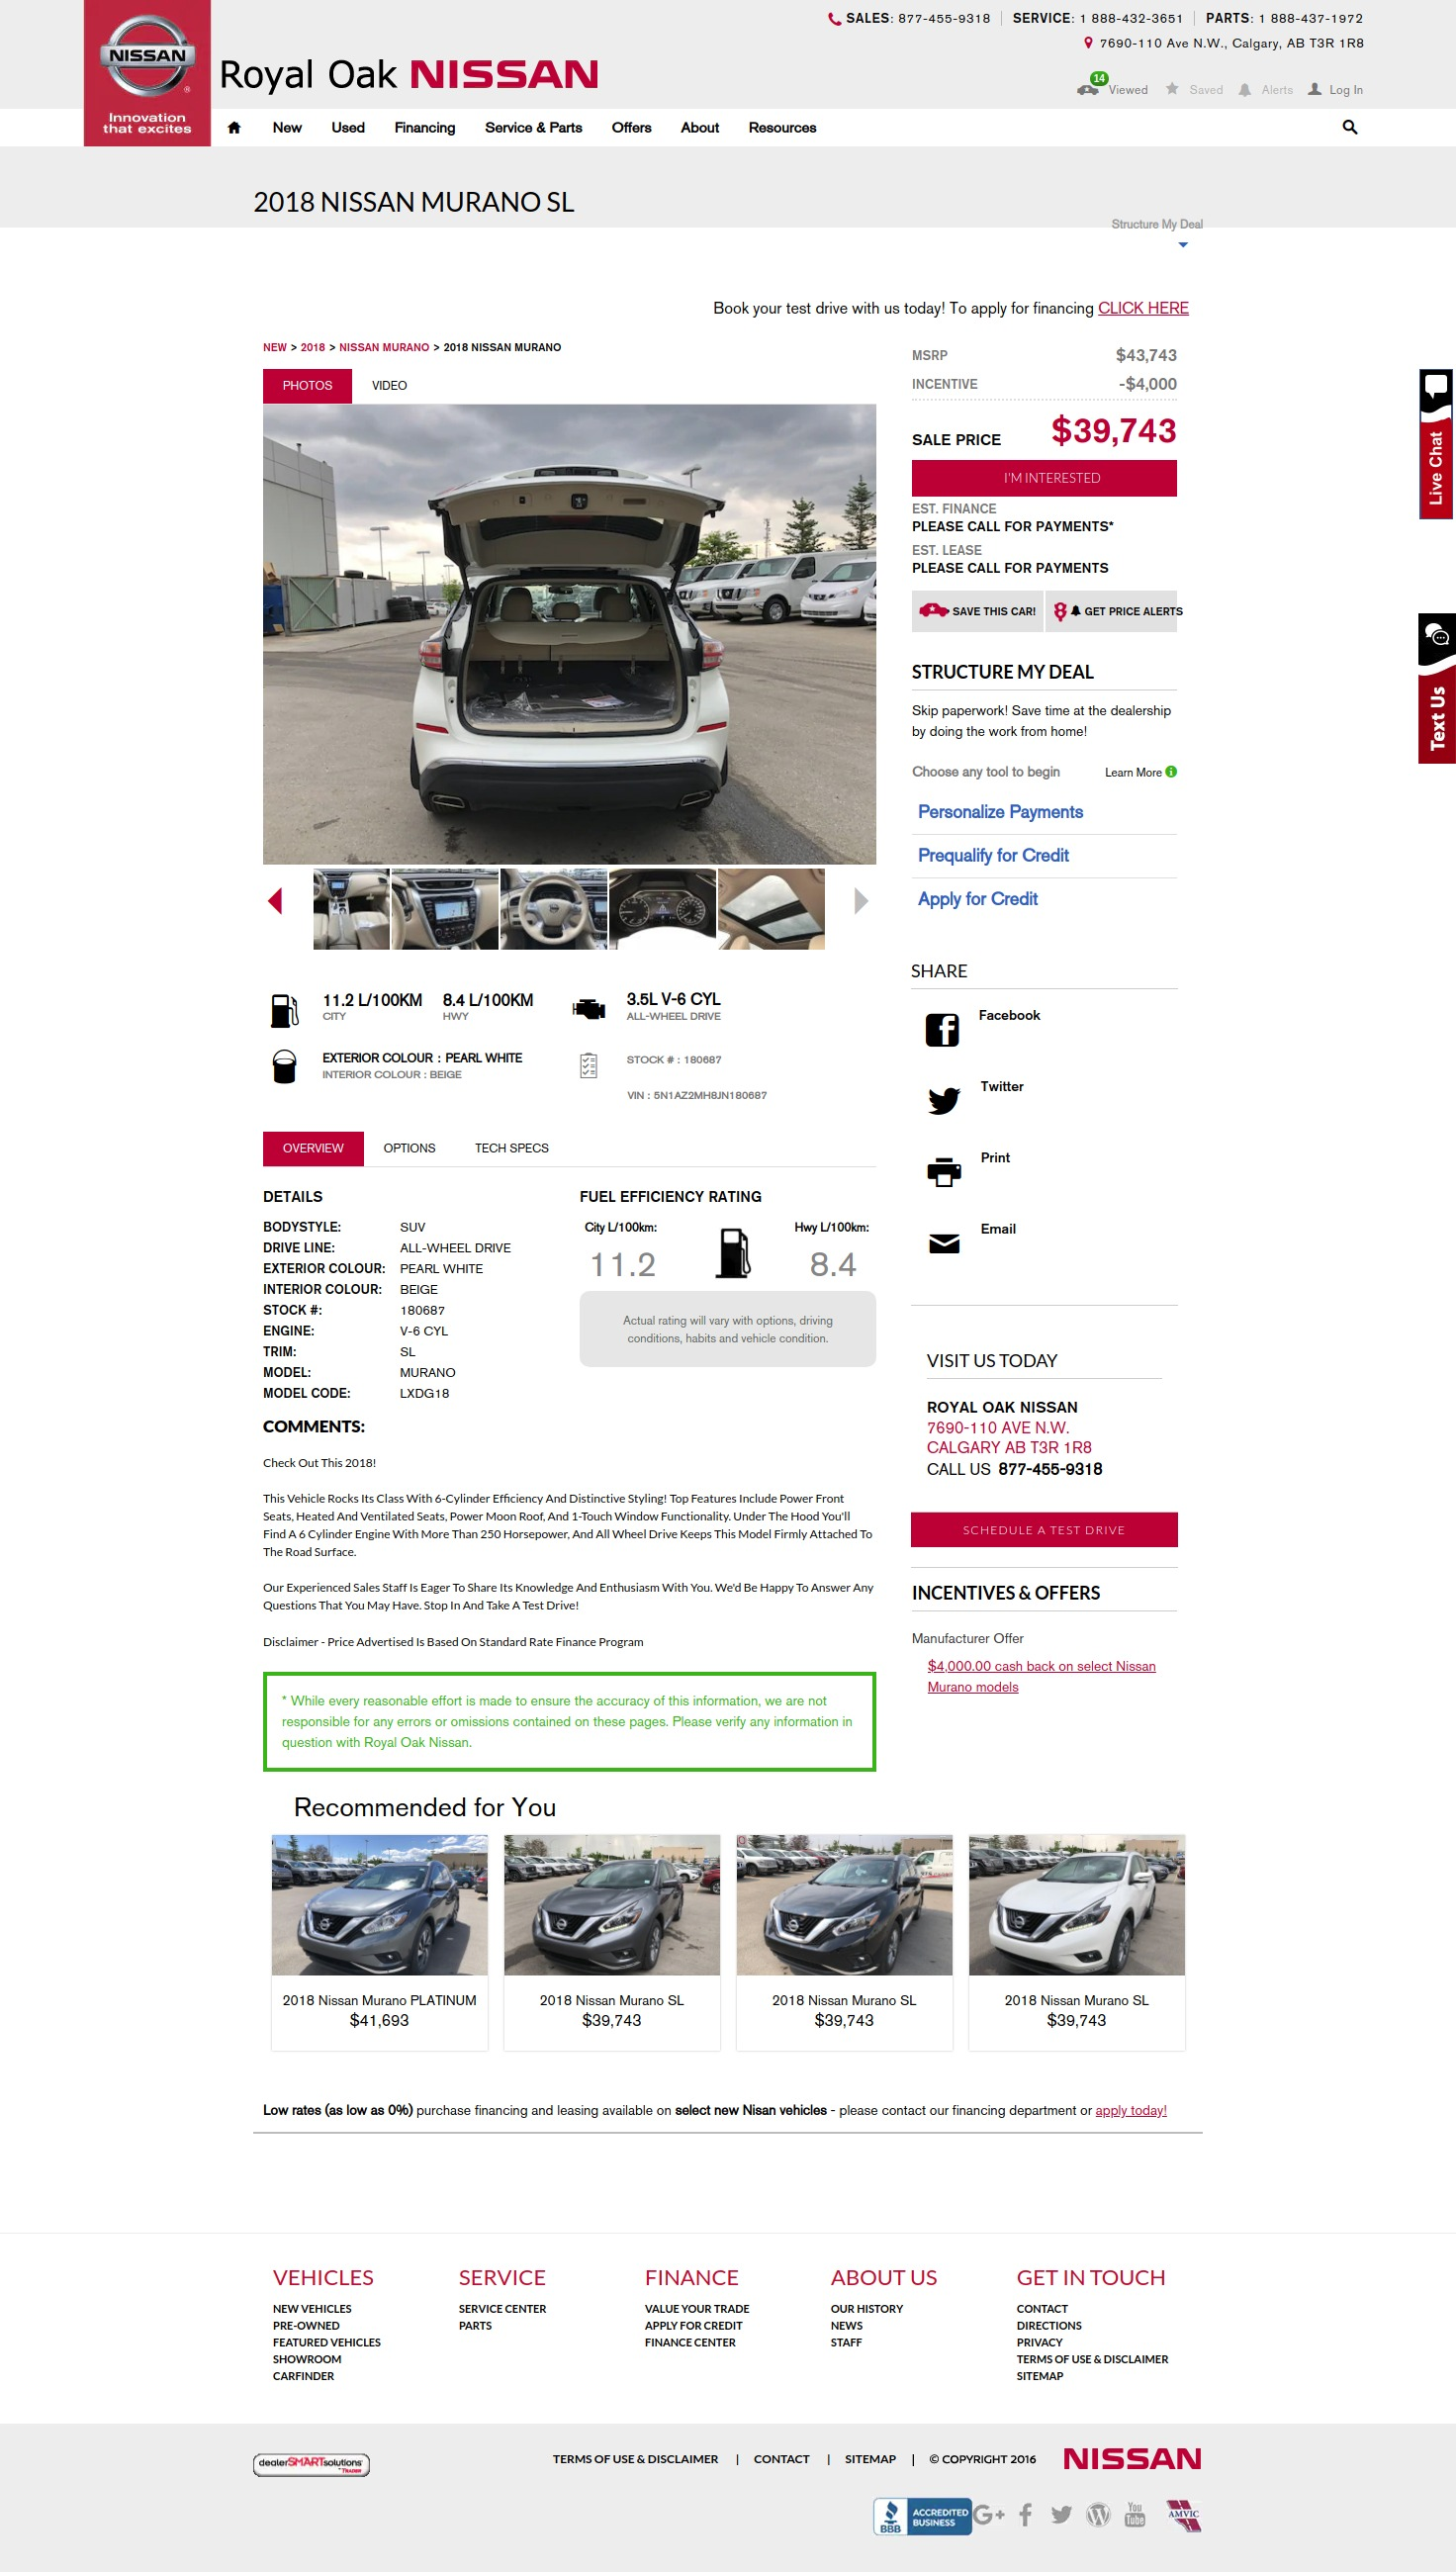car: (855, 887, 869, 917)
